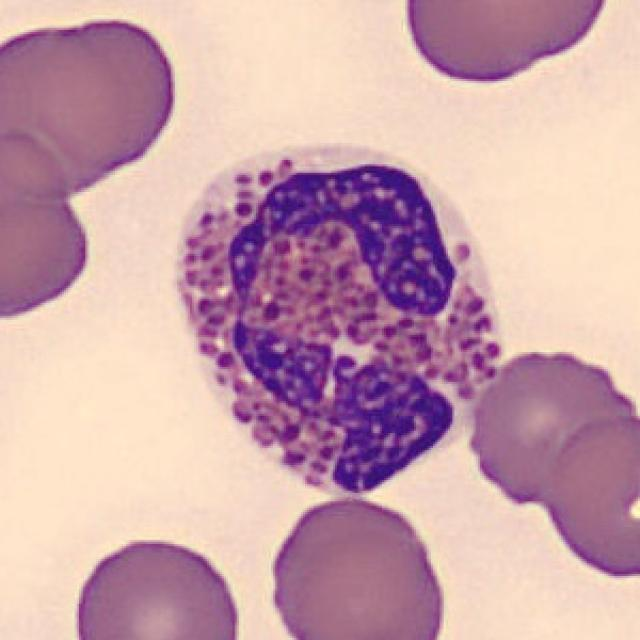White Blood Cell: (179, 146, 501, 492)
